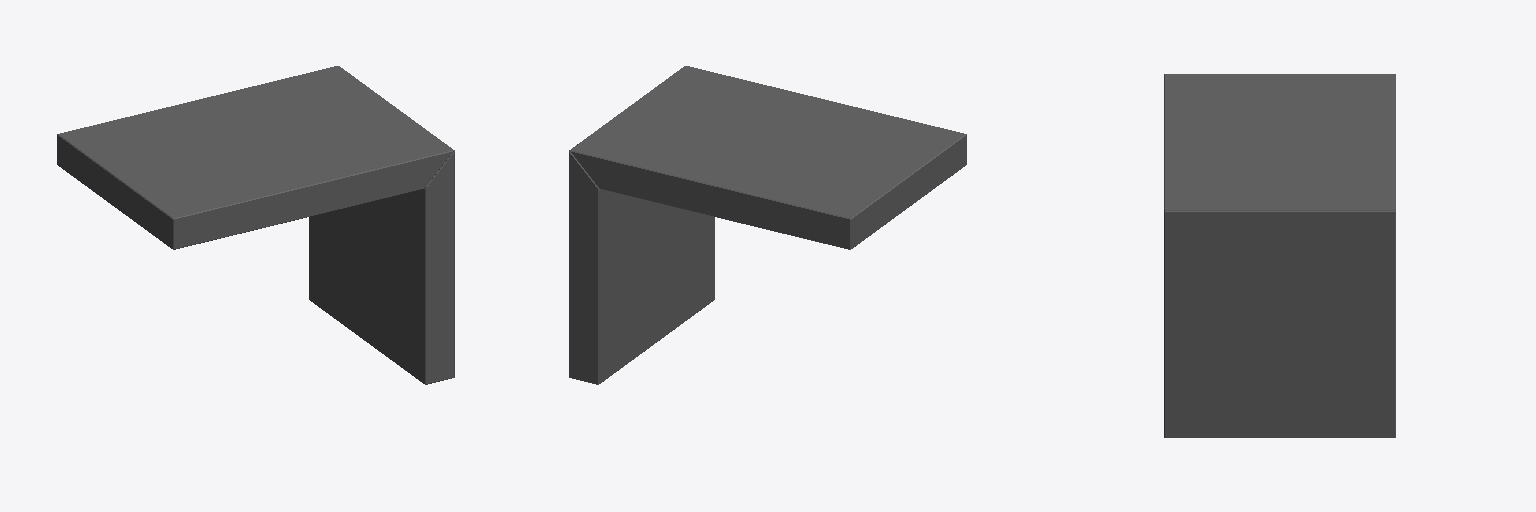
File: 2banan2.obj
The picture shows the model from 3 angles: view 1: azimuth 30°, elevation 25°; view 2: azimuth 150°, elevation 25°; view 3: azimuth 270°, elevation 25°; orthographic projection.
Parts seen in each view (by area): view 1: Group_075_Mesh.023; view 2: Group_075_Mesh.023; view 3: Group_075_Mesh.023.
Part boxes in pixels (left/top/right/bottom): Group_075_Mesh.023: left=57, top=66, right=454, bottom=384; Group_075_Mesh.023: left=569, top=66, right=966, bottom=384; Group_075_Mesh.023: left=1164, top=74, right=1395, bottom=437.
Bounding box in the file's own units: 1.12 × 0.865 × 0.8.